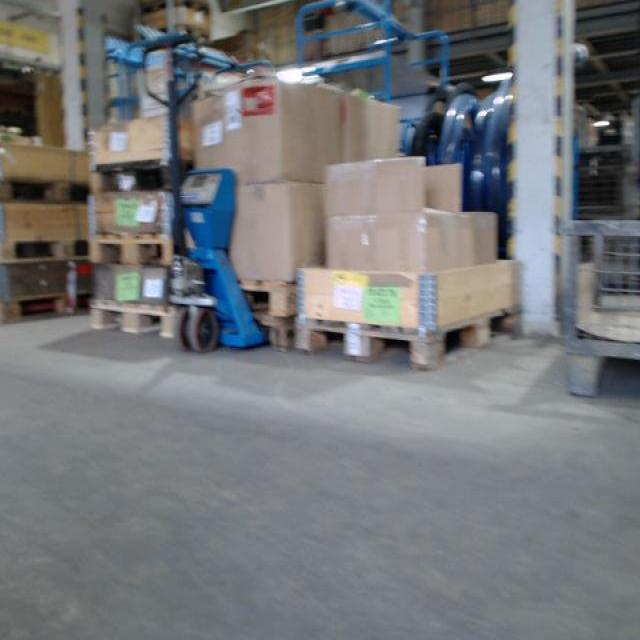pallet: (292, 299, 522, 375), (89, 152, 195, 197), (0, 285, 93, 330), (88, 295, 180, 340), (84, 231, 172, 273), (0, 170, 91, 208), (0, 234, 93, 265), (236, 278, 296, 317), (141, 1, 208, 18)
pallet_truck: (134, 27, 272, 357)
stillage: (572, 218, 638, 400)
